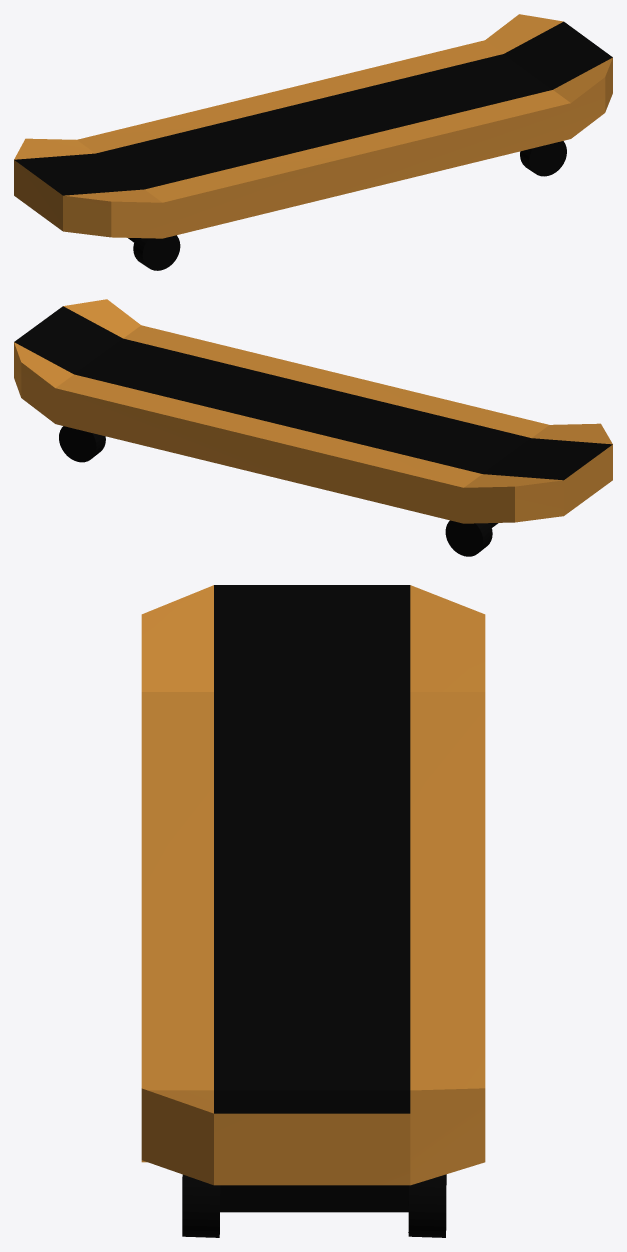
Rendered from MONOPATIN.fbx.
3 renders of one model, top to bottom at view 1: azimuth 30°, elevation 25°; view 2: azimuth 150°, elevation 25°; view 3: azimuth 270°, elevation 25°, orthographic. The views are drawn at different scales.
Visible parts, largest first — view 1: Cubo; view 2: Cubo; view 3: Cubo.
Part boxes in pixels (x1=…): Cubo: x1=14, y1=14, x2=612, y2=270; Cubo: x1=14, y1=299, x2=612, y2=556; Cubo: x1=141, y1=585, x2=485, y2=1237.
Bounding box in the file's own units: 492 × 81.69 × 133.
